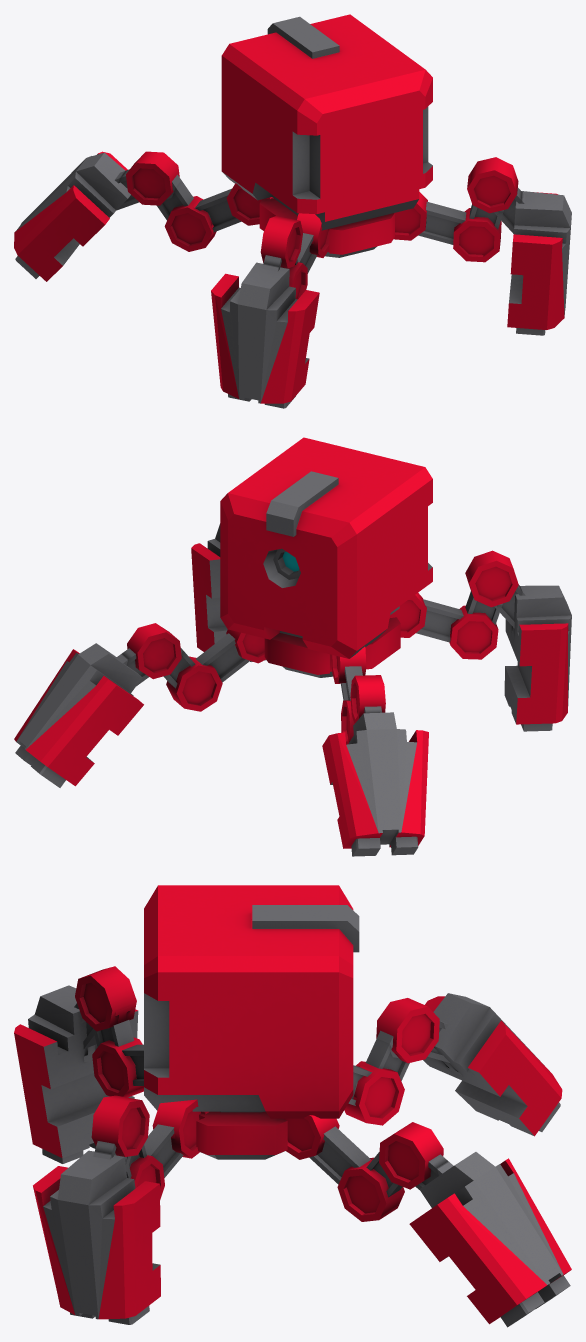
Rendered from Monster1_Attack16.obj.
3 renders of one model, top to bottom at view 1: azimuth 30°, elevation 25°; view 2: azimuth 150°, elevation 25°; view 3: azimuth 270°, elevation 25°, orthographic. The views are drawn at different scales.
Visible parts, largest first — view 1: Box006, Object021, Object025, Object017, Object020, Object027, Object028, Object018, Object019, Object024, Object026, Object022 (+1 smaller); view 2: Box006, Object025, Object013, Object021, Object017, Object024, Object016, Object023, Object015, Object022, Object014, Object028 (+1 smaller); view 3: Box006, Object017, Object013, Object021, Object025, Object027, Object016, Object014, Object024, Object020, Object028, Object015 (+3 smaller).
Boxes of the visible parts, left/top/right/bottom form: Box006: left=221, top=14, right=432, bottom=257; Object021: left=211, top=262, right=319, bottom=408; Object025: left=14, top=151, right=130, bottom=281; Object017: left=507, top=191, right=571, bottom=335; Object020: left=467, top=157, right=525, bottom=233; Object027: left=157, top=174, right=216, bottom=251; Object028: left=115, top=151, right=179, bottom=210; Object018: left=393, top=192, right=466, bottom=244; Object019: left=453, top=204, right=503, bottom=262; Object024: left=260, top=216, right=303, bottom=271; Object026: left=195, top=183, right=273, bottom=232; Object022: left=297, top=213, right=329, bottom=273; Box006: left=220, top=437, right=432, bottom=677; Object025: left=322, top=712, right=428, bottom=856; Object013: left=14, top=643, right=143, bottom=787; Object021: left=504, top=585, right=571, bottom=731; Object017: left=191, top=523, right=266, bottom=661; Object024: left=465, top=550, right=525, bottom=628; Object016: left=116, top=623, right=181, bottom=686; Object023: left=449, top=591, right=502, bottom=659; Object015: left=163, top=648, right=222, bottom=711; Object022: left=389, top=593, right=463, bottom=642; Object014: left=196, top=629, right=265, bottom=682; Object028: left=350, top=675, right=385, bottom=723; Box006: left=144, top=885, right=359, bottom=1159; Object017: left=33, top=1150, right=160, bottom=1324; Object013: left=409, top=1152, right=571, bottom=1327; Object021: left=14, top=985, right=138, bottom=1163; Object025: left=423, top=993, right=562, bottom=1136; Object027: left=344, top=1030, right=409, bottom=1125; Object016: left=379, top=1122, right=453, bottom=1189; Object014: left=283, top=1115, right=370, bottom=1184; Object024: left=74, top=966, right=136, bottom=1048; Object020: left=91, top=1095, right=149, bottom=1172; Object028: left=376, top=998, right=449, bottom=1063; Object015: left=337, top=1152, right=404, bottom=1221.
Bounding box in the file's own units: 156 × 98.79 × 157.
